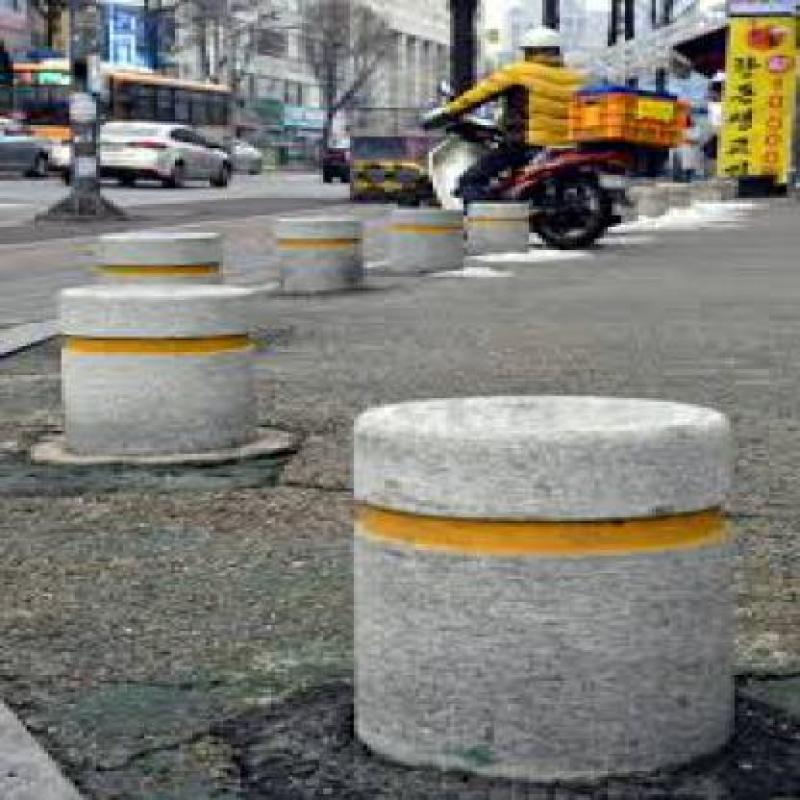bolard: (406, 402, 764, 762), (65, 271, 262, 431), (271, 215, 350, 294), (100, 227, 191, 291), (402, 206, 481, 264)
